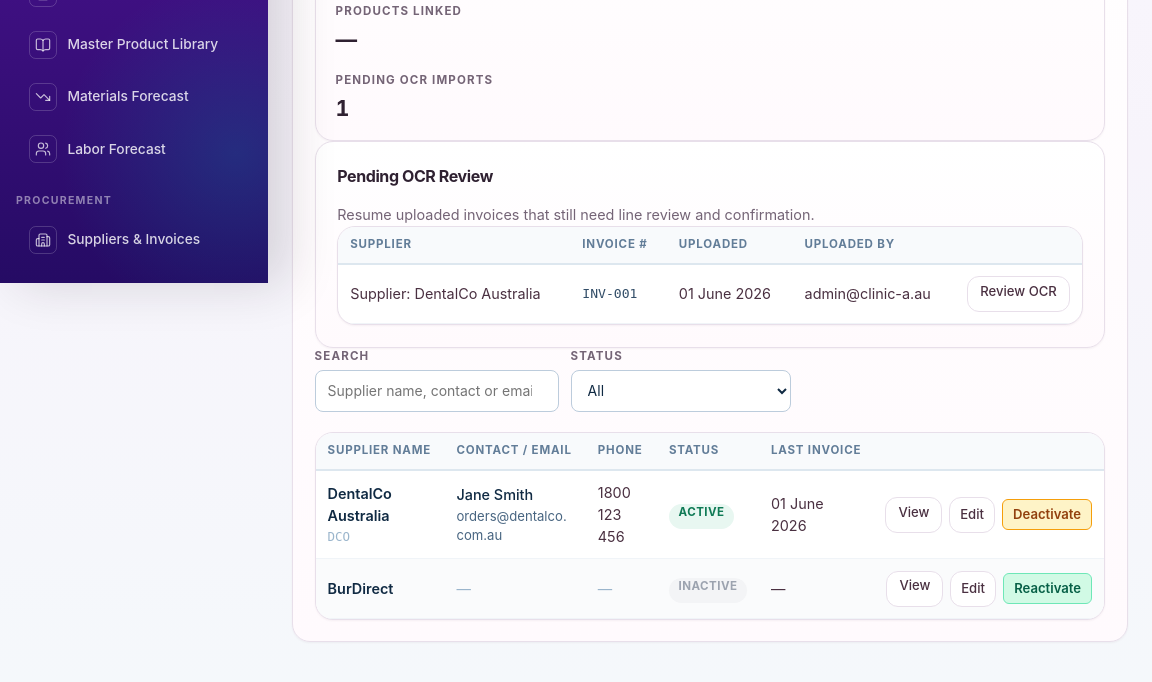
Test: SuppliersPage › shows empty state when no suppliers match search
(page scrolled)
Check: the text "DentalCo Australia" is shown, box [328,485,392,524]
Type "XYZ NonExistent" into the search field with placeholder "Supplier name, contact or email…" at point(437, 391), box [315,370,559,412]
(page scrolled)
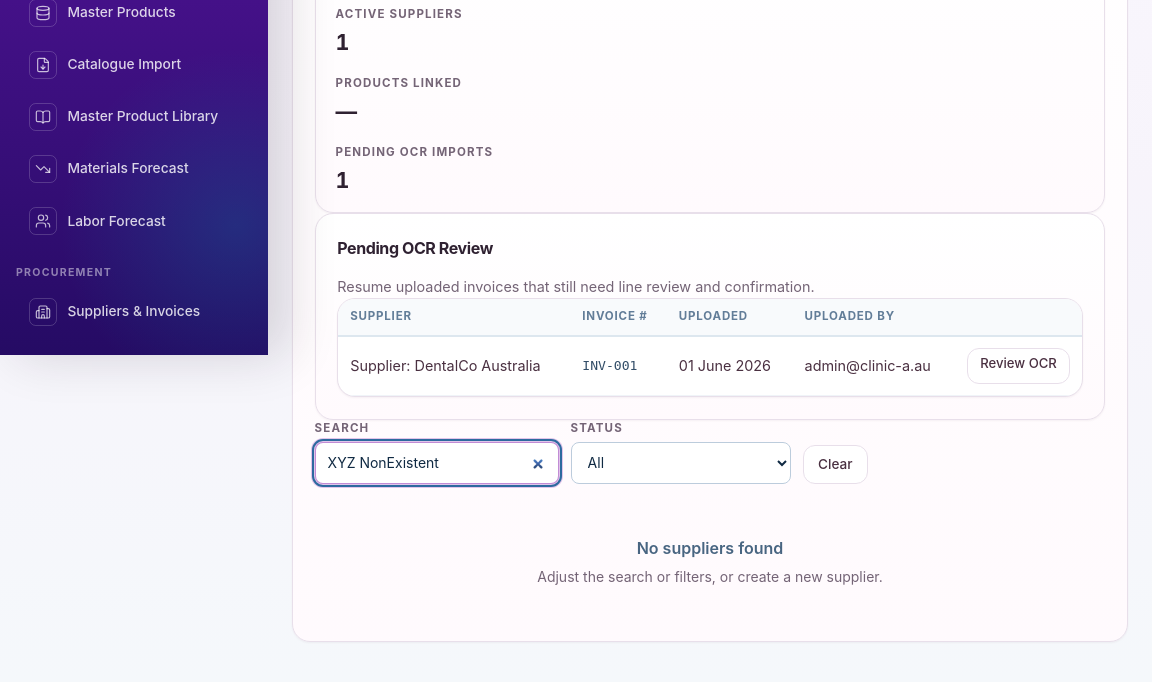
Check: the text "No suppliers found" is shown, box [637,538,783,558]
